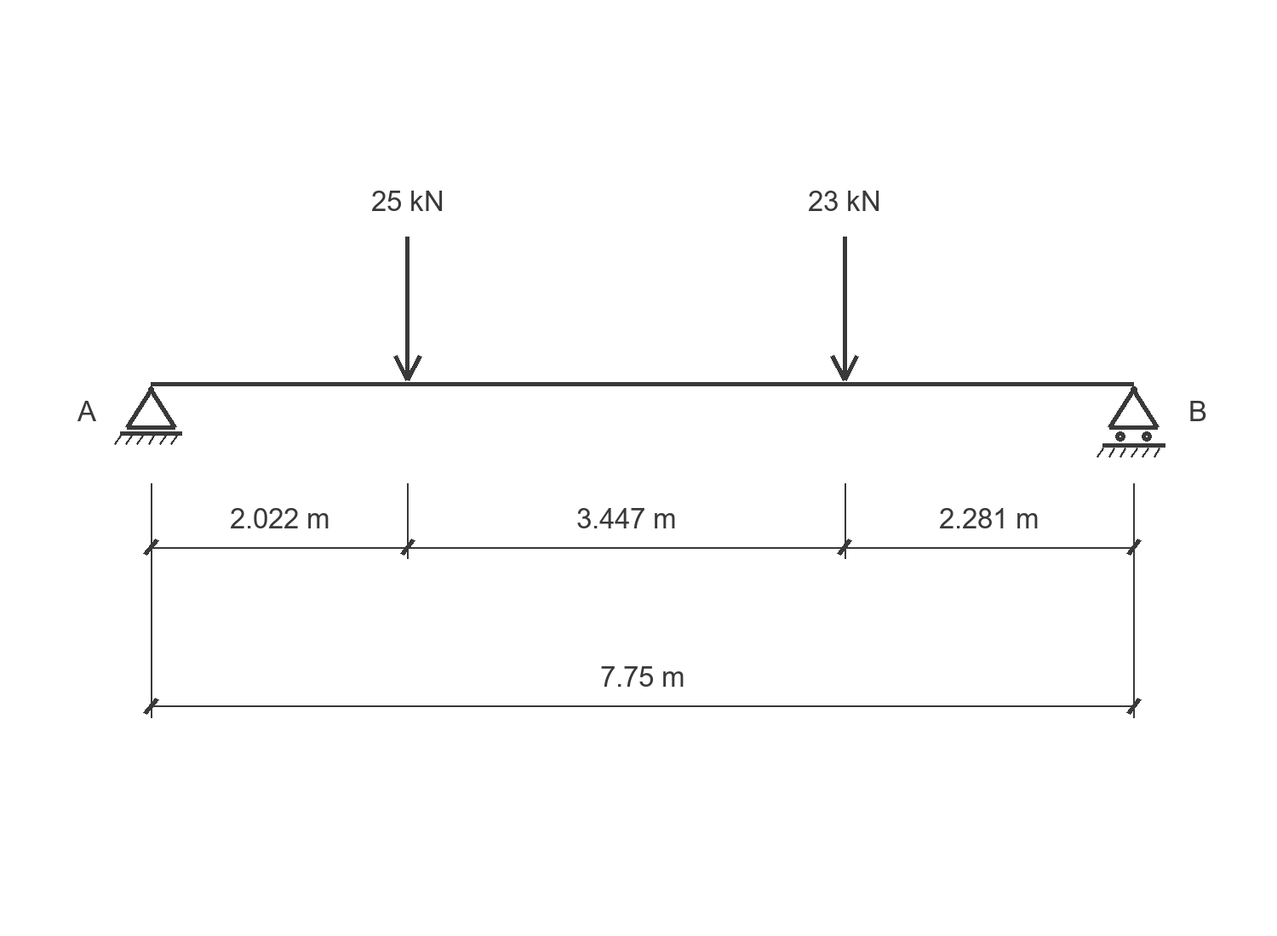pin_support: (114, 386, 182, 445)
point_load: (393, 237, 422, 381), (830, 237, 859, 381)
roller_support: (1097, 386, 1165, 458)
